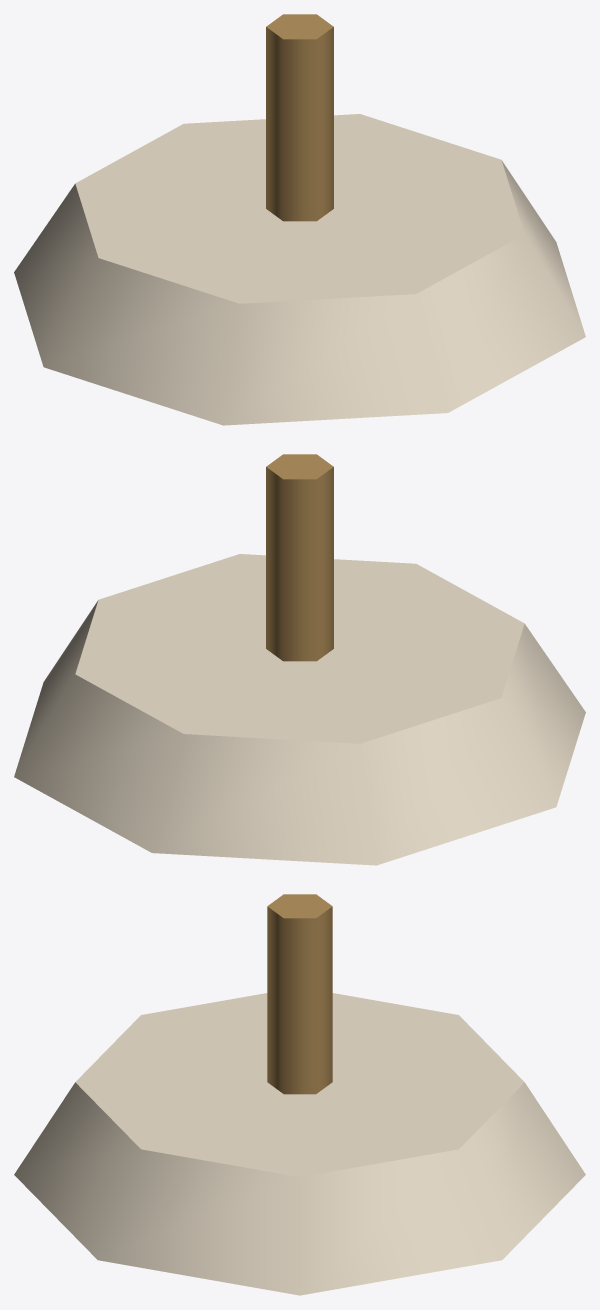
The model's file is plinth.glb.
3 renders of one model, top to bottom at view 1: azimuth 30°, elevation 25°; view 2: azimuth 150°, elevation 25°; view 3: azimuth 270°, elevation 25°, orthographic. The views are drawn at different scales.
Visible parts, largest first — view 1: ZonePlinth; view 2: ZonePlinth; view 3: ZonePlinth.
Boxes of the visible parts, x1=… form: ZonePlinth: x1=14, y1=14, x2=585, y2=425; ZonePlinth: x1=14, y1=454, x2=585, y2=865; ZonePlinth: x1=14, y1=894, x2=585, y2=1295.
Size of the model in its own units: 1.4 by 0.725 by 1.4.
